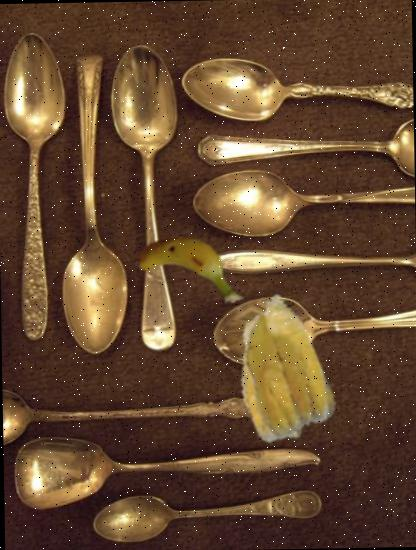Banana: (135, 214, 246, 326)
Physalis: (204, 297, 350, 443)
